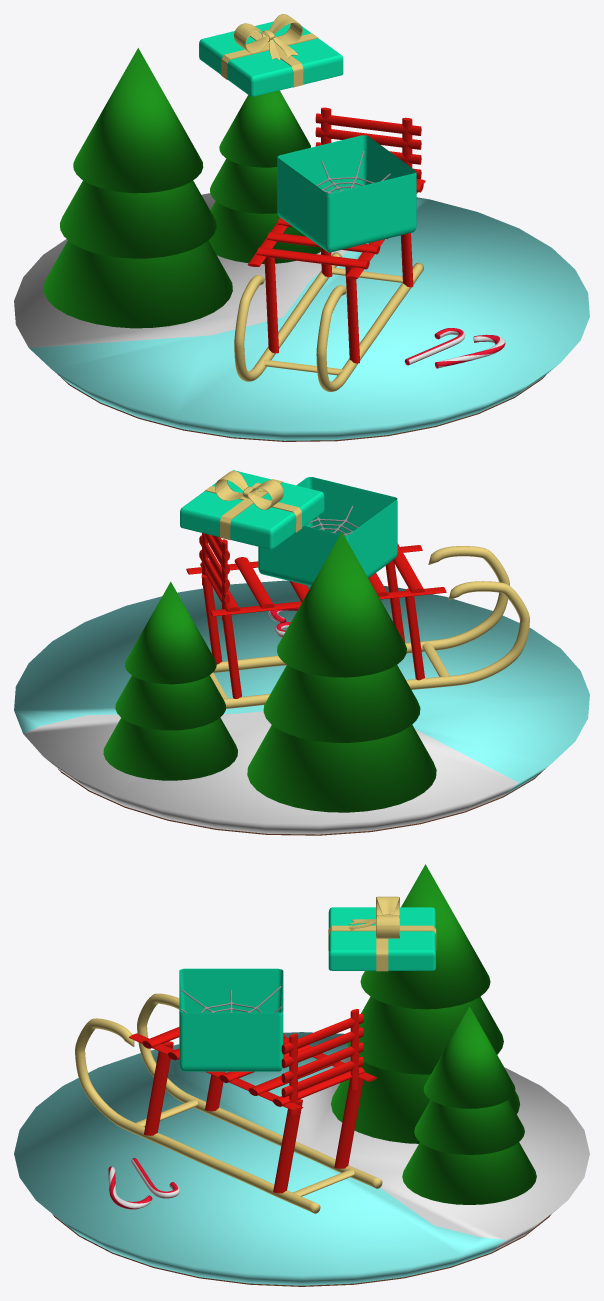
File: NoSmall.glb
3 renders of one model, top to bottom at view 1: azimuth 30°, elevation 25°; view 2: azimuth 150°, elevation 25°; view 3: azimuth 270°, elevation 25°, orthographic.
Visible parts, largest first — view 1: Circle002, box2, Cone002, Cone, Circle002_1, Cone001, boxTop, Cone006, Cone005, Cone004, BézierCurve001, BézierCurve (+10 smaller); view 2: Circle002, Circle002_1, Cone002, Cone, Cone001, box2, Cone005, Cone006, boxTop, Cone004, BézierCurve, BézierCurve001 (+10 smaller); view 3: Circle002, Circle002_1, box2, Cone, Cone001, Cone005, Cone006, boxTop, Cone002, Cone004, BézierCurve001, BézierCurve (+13 smaller).
Part boxes in pixels (x1,y1,x2,y2): Circle002: (29, 197, 589, 440); box2: (277, 135, 416, 252); Cone002: (43, 240, 232, 328); Cone: (73, 48, 203, 193); Circle002_1: (14, 193, 348, 347); Cone001: (60, 180, 216, 258); boxTop: (199, 21, 343, 96); Cone006: (219, 90, 310, 167); Cone005: (208, 201, 320, 263); Cone004: (210, 158, 277, 213); BézierCurve001: (316, 262, 423, 391); BézierCurve: (234, 252, 341, 381); Circle002: (14, 580, 589, 795); Circle002_1: (23, 711, 518, 834); Cone002: (247, 724, 436, 812); Cone: (277, 532, 406, 677); Cone001: (263, 665, 420, 742); box2: (258, 477, 397, 585); Cone005: (103, 717, 237, 780); Cone006: (125, 582, 216, 684); boxTop: (180, 470, 324, 549); Cone004: (115, 675, 225, 730); BézierCurve: (223, 581, 529, 708); BézierCurve001: (213, 546, 509, 672); Circle002: (14, 1032, 504, 1285); Circle002_1: (296, 1046, 589, 1252); box2: (179, 968, 283, 1071); Cone: (360, 864, 490, 1009); Cone001: (347, 996, 503, 1074); Cone005: (402, 1142, 536, 1204); Cone006: (423, 1006, 515, 1108); boxTop: (328, 907, 435, 970); Cone002: (331, 1062, 519, 1143); Cone004: (414, 1100, 524, 1154); BézierCurve001: (75, 1018, 320, 1213); BézierCurve: (137, 993, 382, 1188).
Size of the model in its own units: 1.39 by 0.8761 by 1.39.
